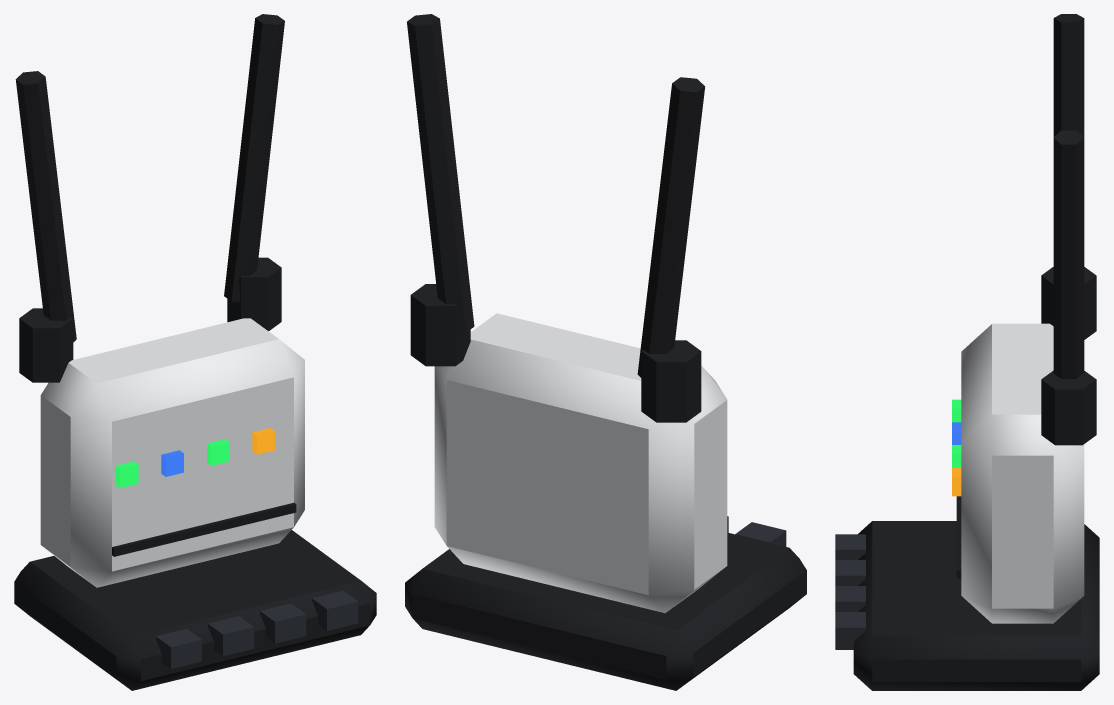
File: router_cable_modem.glb
The picture shows the model from 3 angles, left to right: view 1: azimuth 30°, elevation 25°; view 2: azimuth 150°, elevation 25°; view 3: azimuth 270°, elevation 25°; orthographic projection. The views are drawn at different scales.
Visible parts, largest first — view 1: router_cable_modem; view 2: router_cable_modem; view 3: router_cable_modem.
Boxes of the visible parts, x1=… form: router_cable_modem: x1=14, y1=14, x2=376, y2=690; router_cable_modem: x1=405, y1=14, x2=806, y2=690; router_cable_modem: x1=835, y1=14, x2=1099, y2=690.
Size of the model in its own units: 0.2011 by 0.4003 by 0.172.
